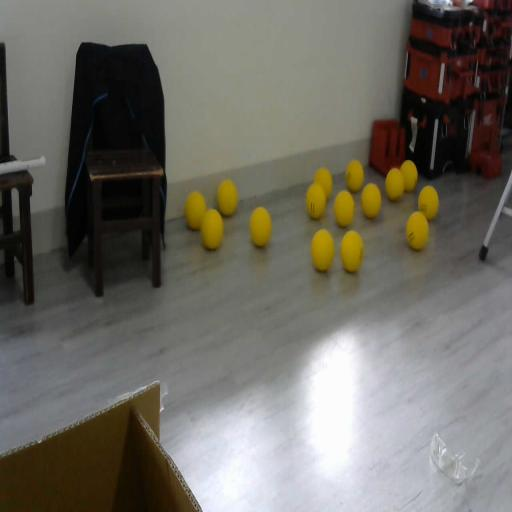FUEL: (340, 229, 364, 272), (200, 207, 224, 250), (311, 229, 334, 272), (405, 210, 429, 251), (249, 206, 272, 248), (184, 190, 207, 230), (216, 179, 238, 216), (384, 166, 406, 202), (312, 166, 333, 202), (361, 183, 382, 219), (334, 190, 354, 227), (418, 185, 438, 220), (345, 159, 364, 192)
